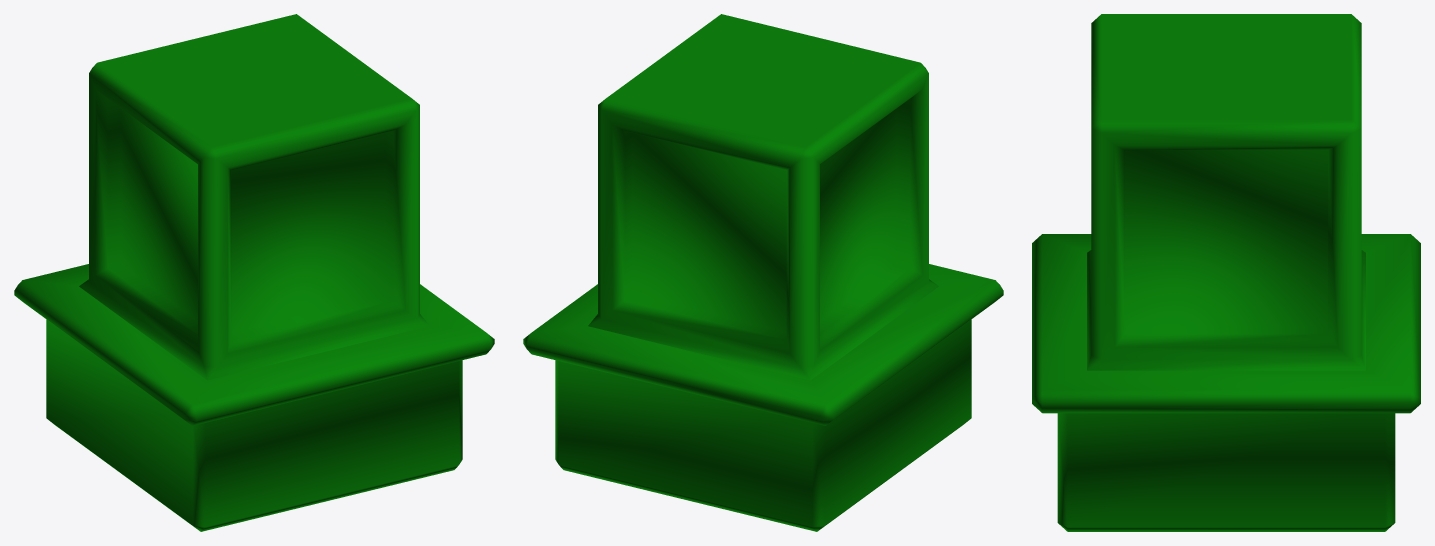
File: W1_Pilier_Merlon.fbx
The picture shows the model from 3 angles, left to right: view 1: azimuth 30°, elevation 25°; view 2: azimuth 150°, elevation 25°; view 3: azimuth 270°, elevation 25°; orthographic projection. The views are drawn at different scales.
Parts seen in each view (by area): view 1: W1_Pilier_Merlon; view 2: W1_Pilier_Merlon; view 3: W1_Pilier_Merlon.
Part boxes in pixels (x1,y1,x2,y2): W1_Pilier_Merlon: (14,14,494,531); W1_Pilier_Merlon: (523,14,1003,531); W1_Pilier_Merlon: (1032,14,1420,531).
Size of the model in its own units: 115 by 130 by 115.
